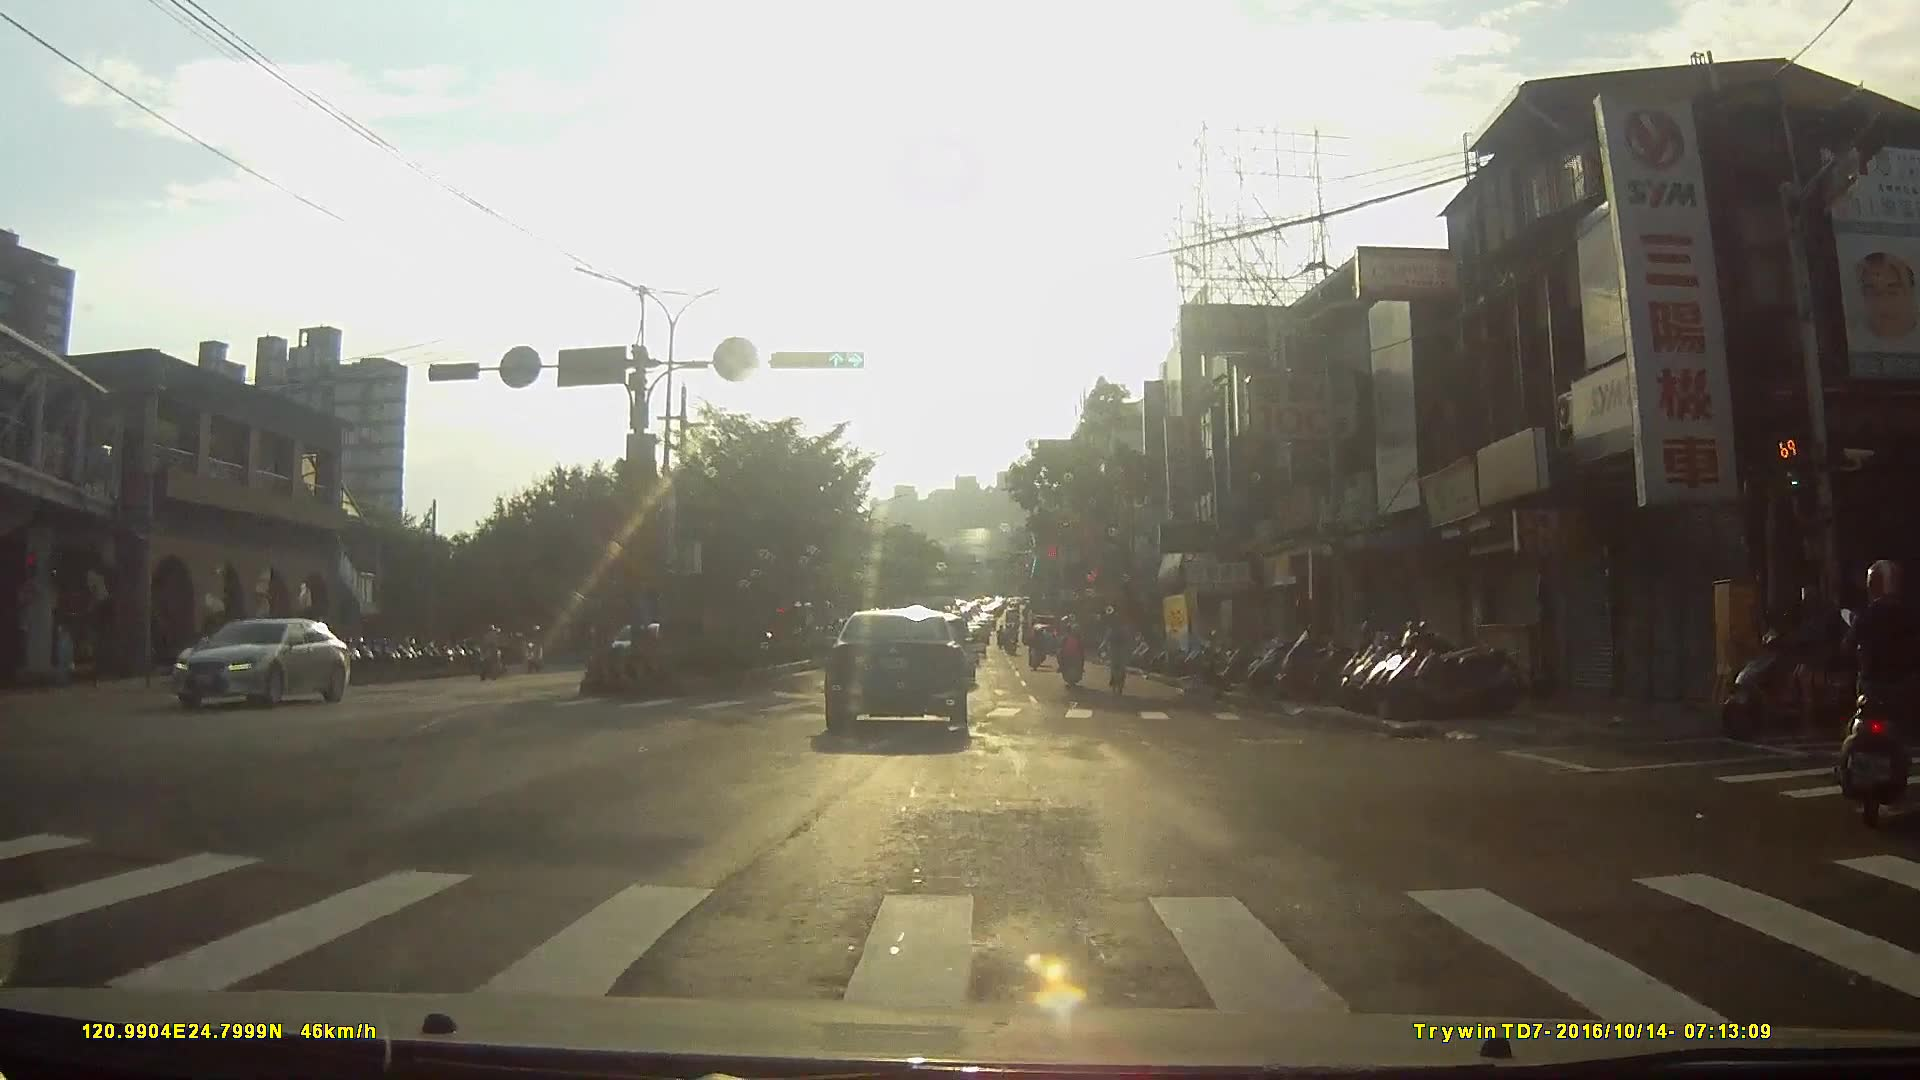rider: (1835, 563, 1920, 822), (1104, 620, 1129, 708), (1058, 626, 1086, 694), (478, 625, 508, 684), (521, 625, 548, 678), (1026, 626, 1050, 675)
vehicle: (827, 608, 985, 749), (165, 616, 356, 718)
